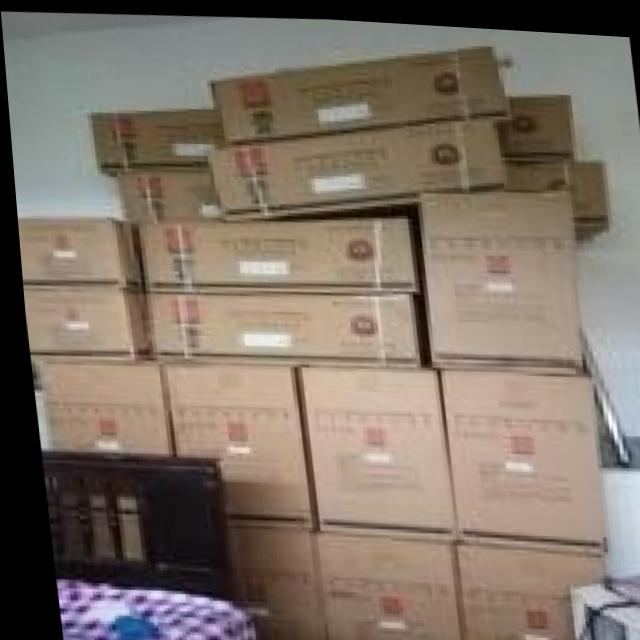box: (204, 110, 506, 220), (430, 362, 598, 547), (209, 40, 509, 142), (416, 183, 577, 367), (291, 363, 451, 537), (156, 362, 308, 529), (130, 214, 415, 289), (137, 289, 415, 362), (308, 529, 454, 640), (451, 537, 598, 640), (32, 360, 165, 452), (222, 523, 319, 640), (18, 282, 147, 353), (14, 216, 137, 289), (92, 107, 219, 172), (502, 151, 603, 230), (117, 168, 223, 219), (494, 90, 575, 151)
